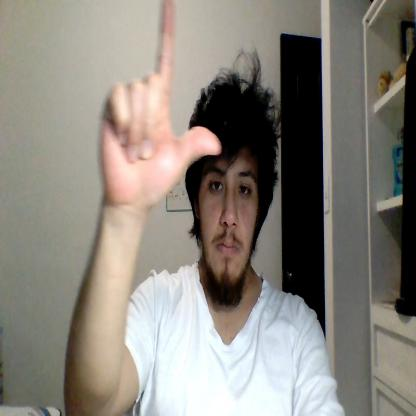L: (98, 0, 222, 208)
